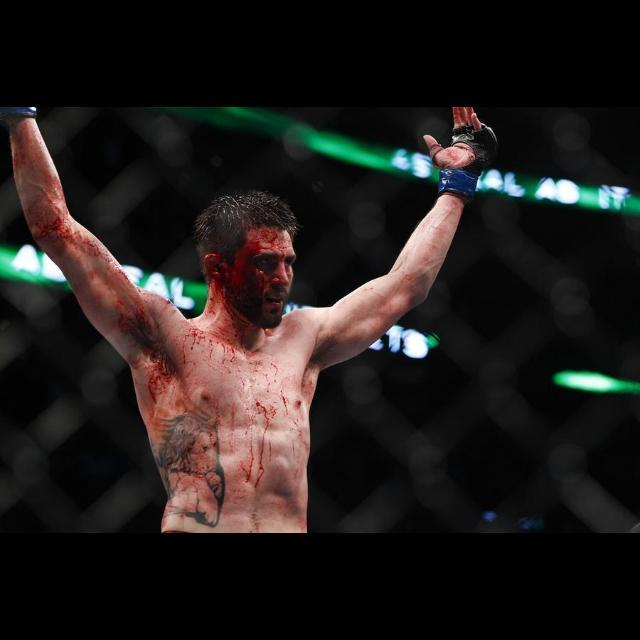blood: (21, 165, 295, 487)
